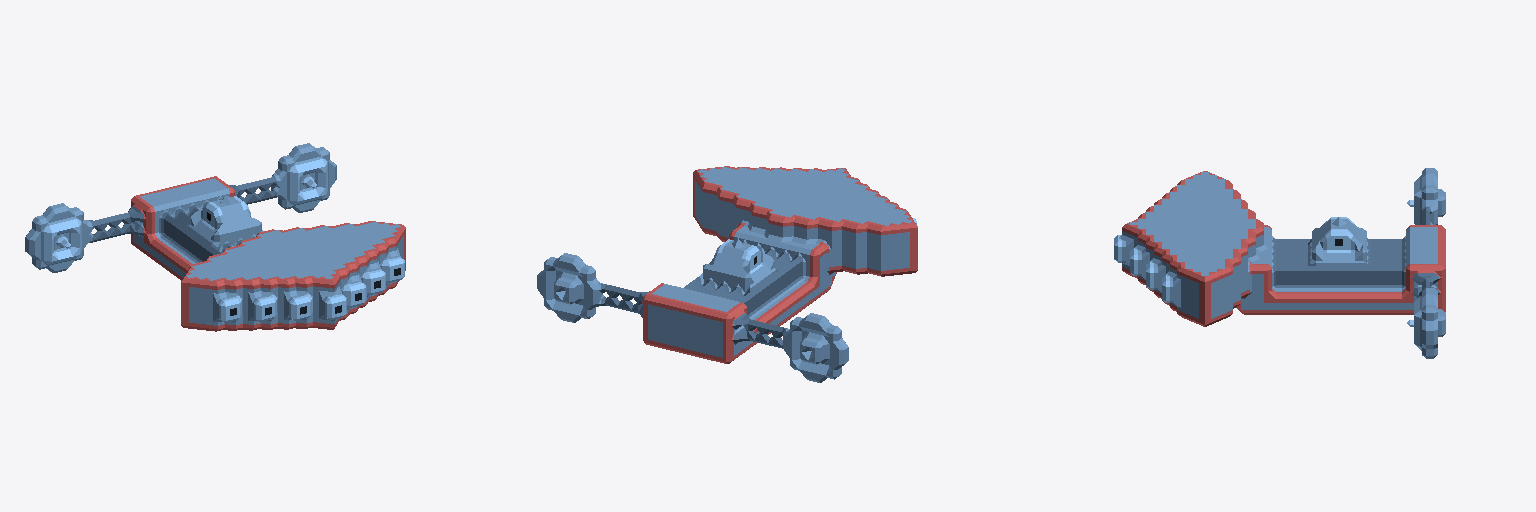
3 views of the same model, side by side, from view 1: azimuth 30°, elevation 25°; view 2: azimuth 150°, elevation 25°; view 3: azimuth 270°, elevation 25° (orthographic).
Bounding box in the file's own units: 45 × 11 × 42.
Materials: 1 (1 with a texture image).